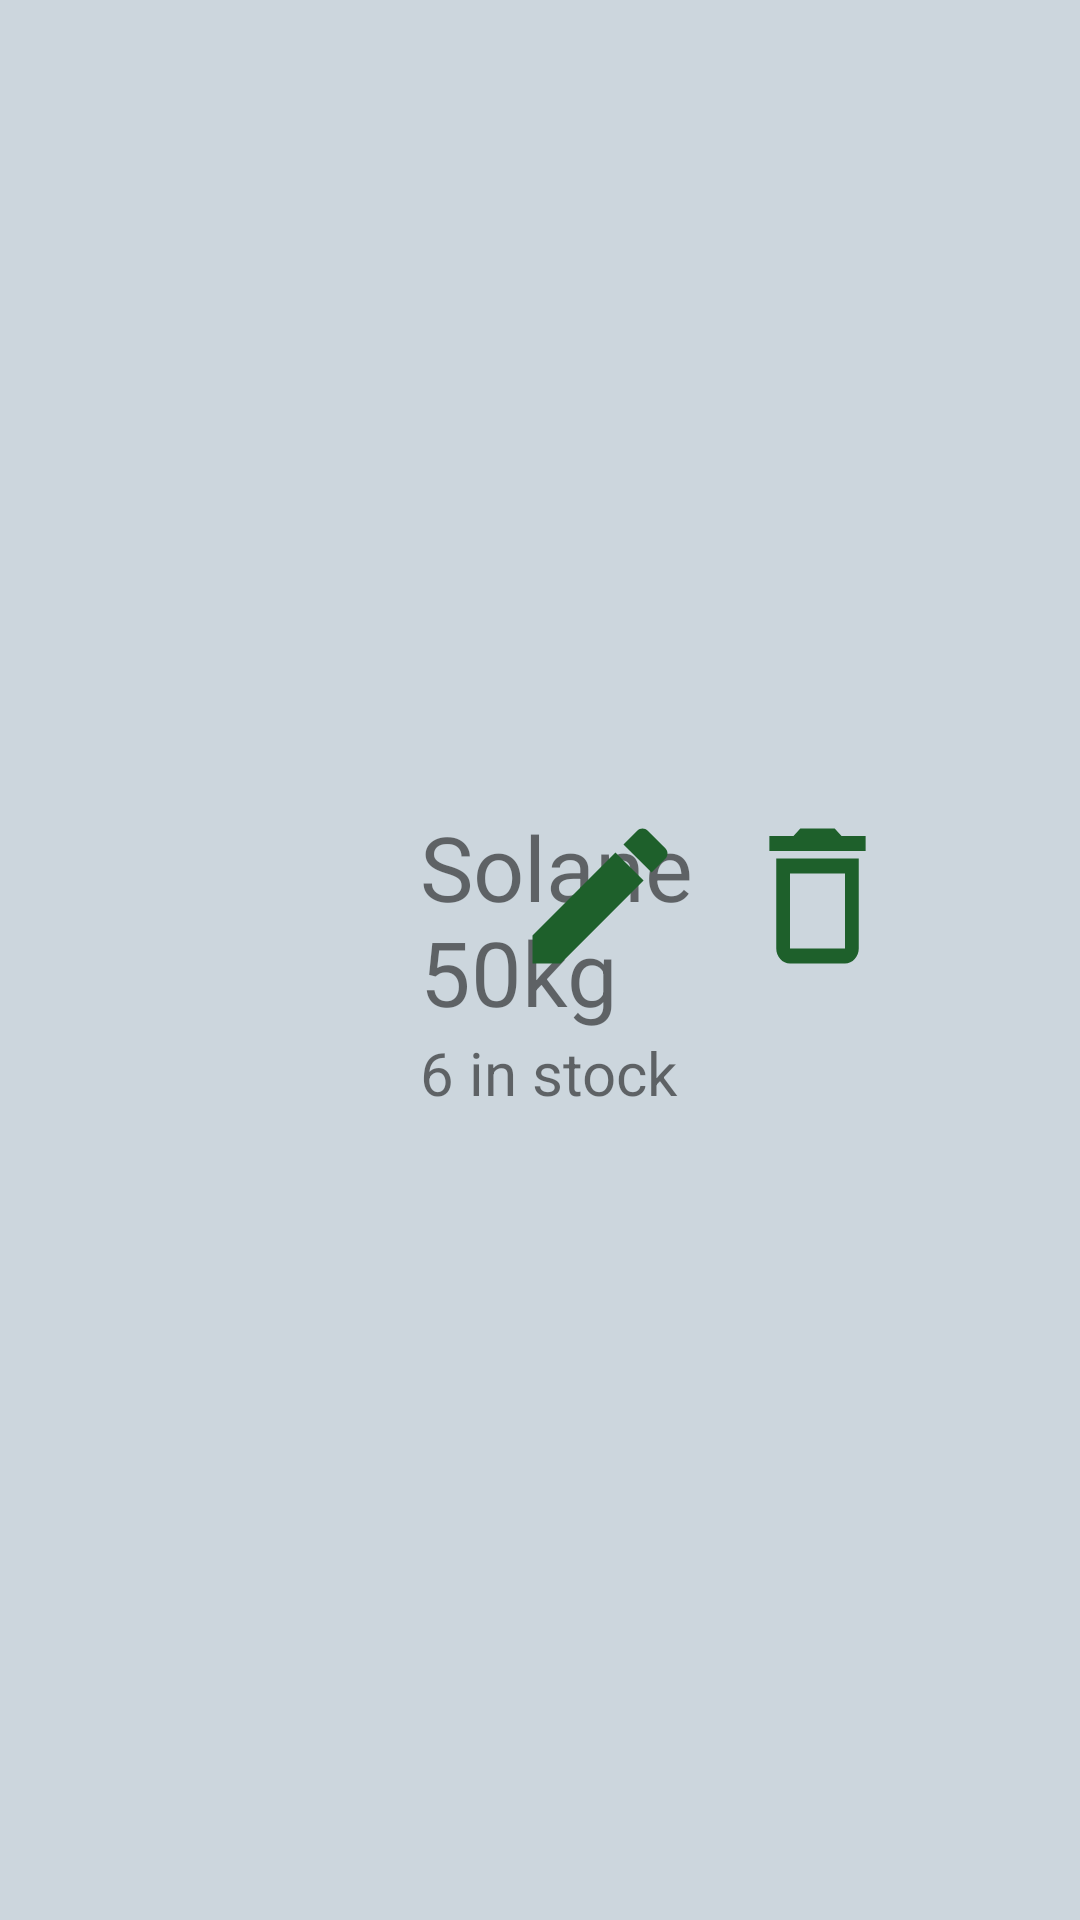

Named icons in this screenshot (1080px x 1920px) and their bounding boxes, bbox=(x1, y1, x2, y2):
delete: bbox=(769, 828, 866, 964)
